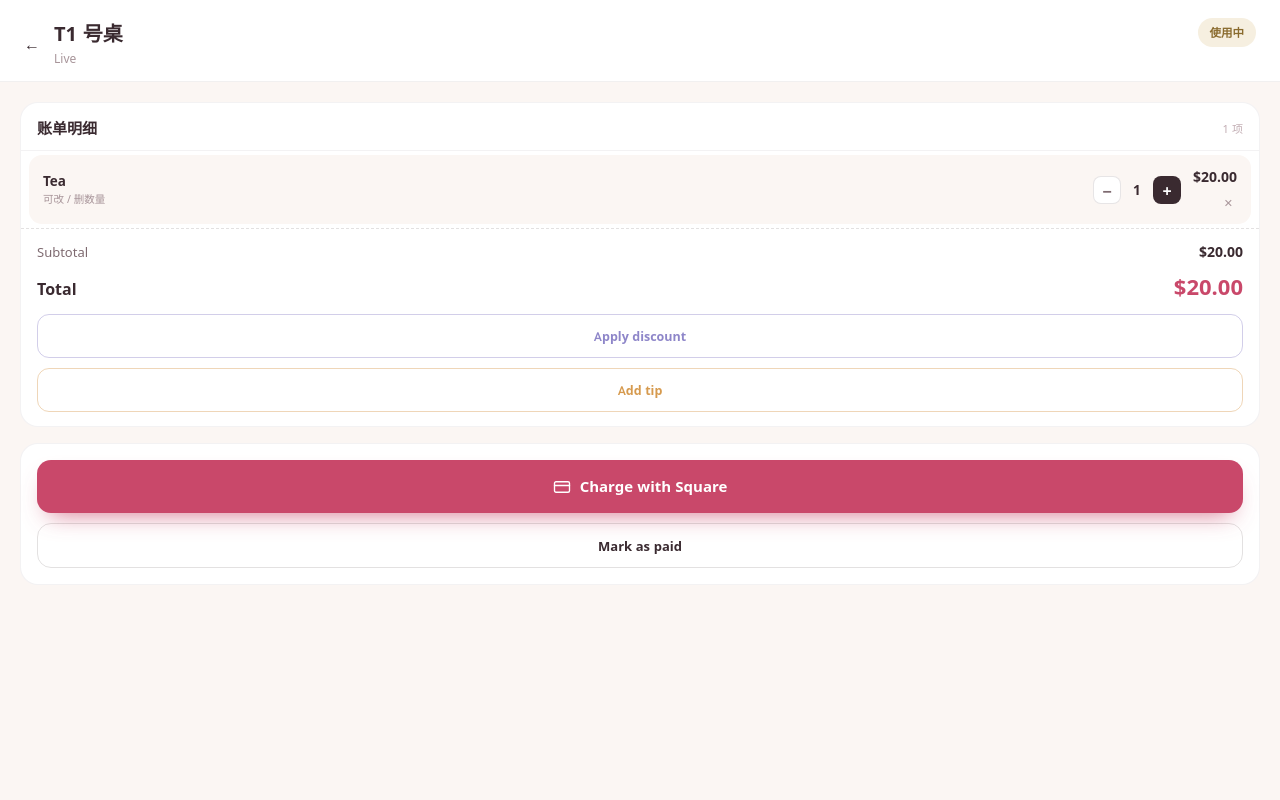
Test case: TableDetail — tip disabled when not open › surfaces a 409 not-open error when adding to a non-open bill
This screenshot has width=1280, height=800.
Click the button "Add tip". click: (640, 390)
box: [37, 368, 1243, 412]
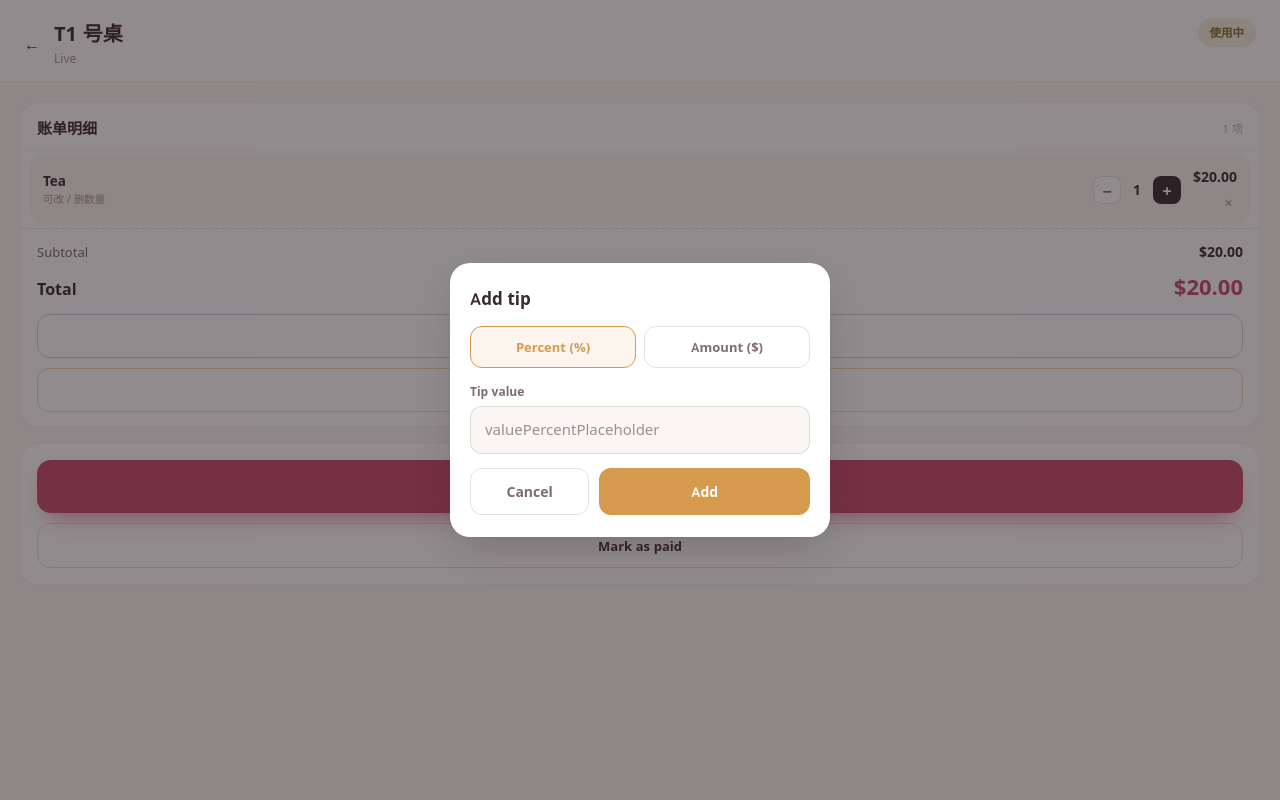
Type "10" into the number field labelled "Tip value". click: (640, 430)
box: [470, 406, 810, 454]
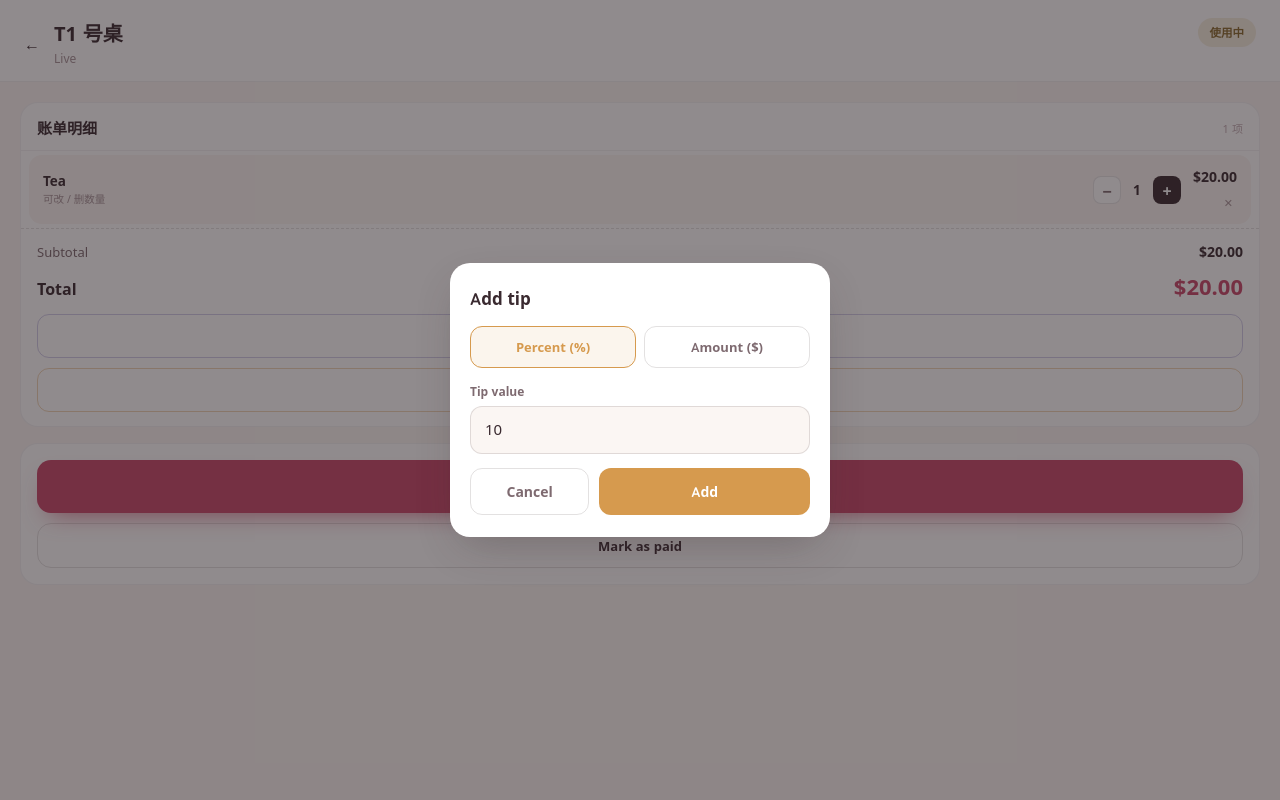
Click the button "Add". click: (705, 492)
box: [599, 468, 810, 515]
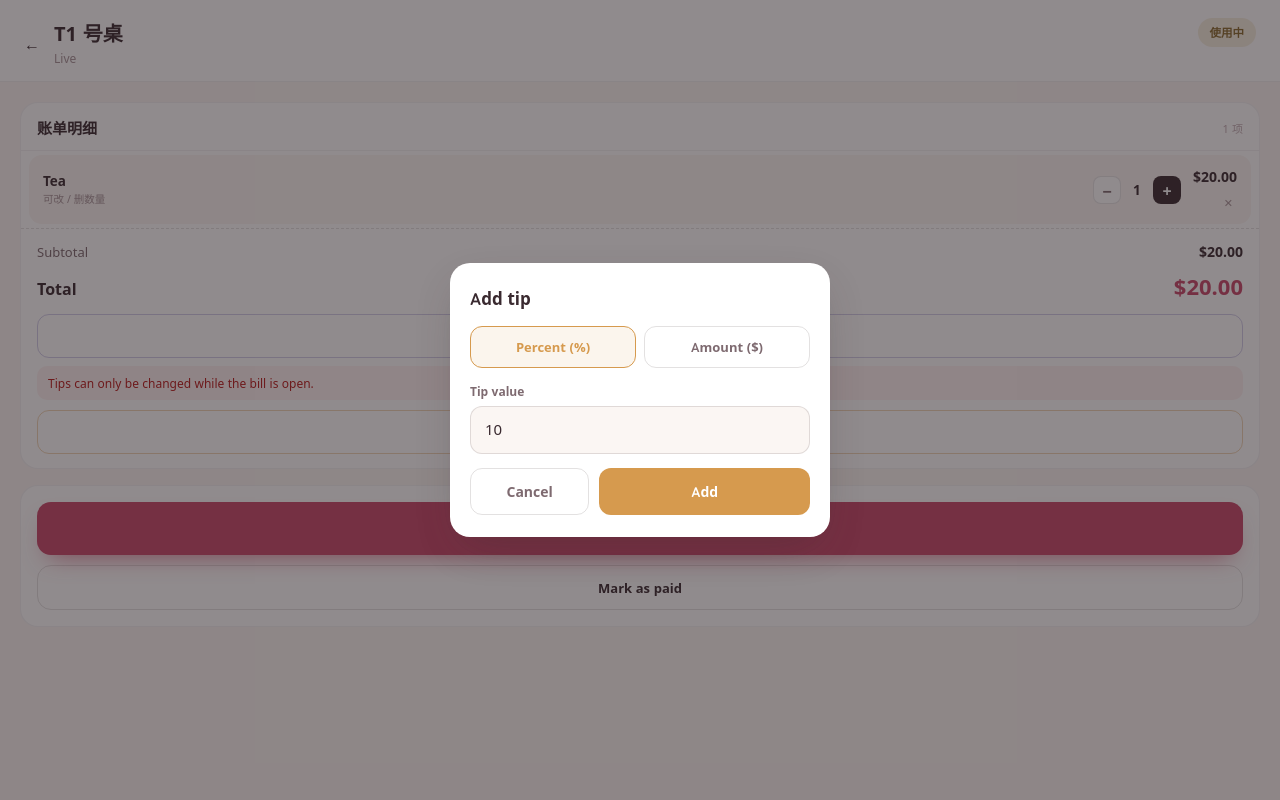
Now the text "Tips can only be changed while the bill is open." is shown, box [37, 366, 1243, 400]
